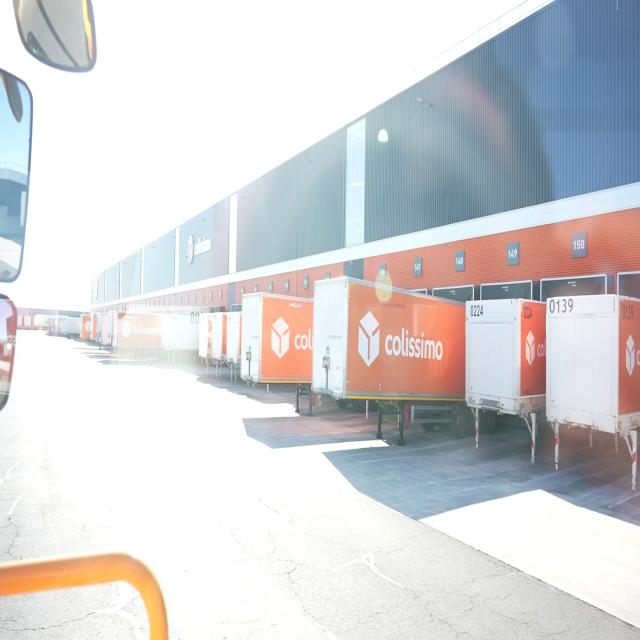Code: (546, 294, 576, 316), (468, 300, 486, 324)
